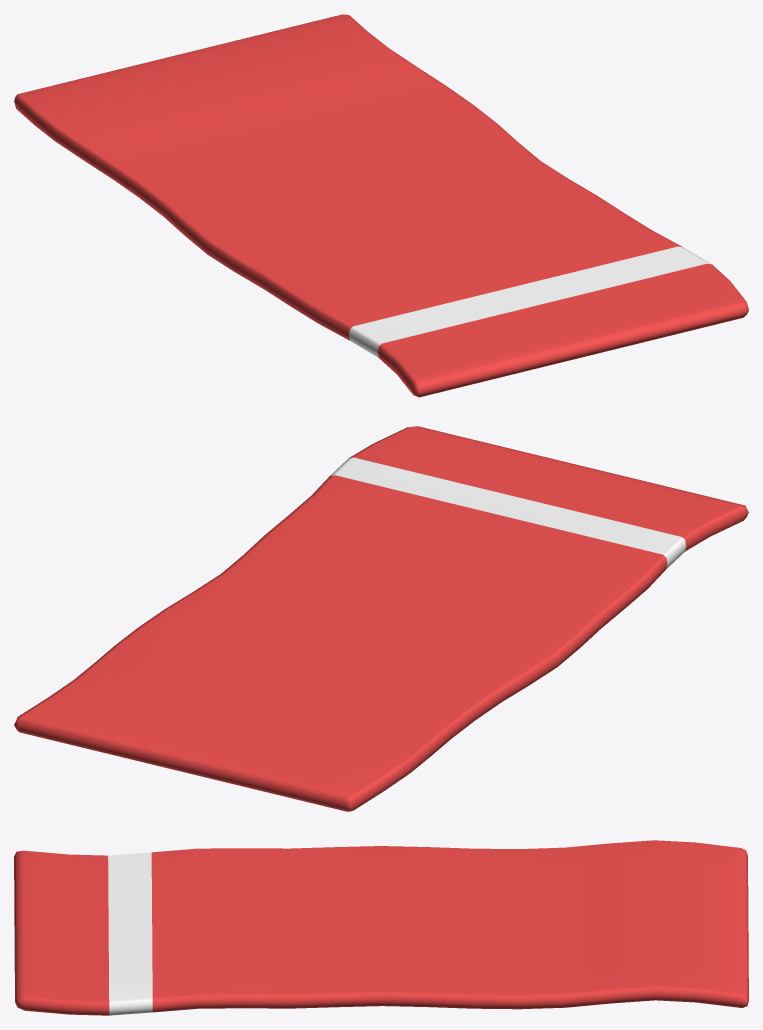
File: Towel_Red.fbx
3 renders of one model, top to bottom at view 1: azimuth 30°, elevation 25°; view 2: azimuth 150°, elevation 25°; view 3: azimuth 270°, elevation 25°, orthographic. The views are drawn at different scales.
Visible parts, largest first — view 1: Towel_Red; view 2: Towel_Red; view 3: Towel_Red.
Boxes of the visible parts, bbox=[...] form: Towel_Red: bbox=[14, 14, 748, 397]; Towel_Red: bbox=[14, 426, 748, 811]; Towel_Red: bbox=[14, 840, 748, 1015].
Size of the model in its own units: 126 by 6.77 by 242.
1 material, 1 textured.
